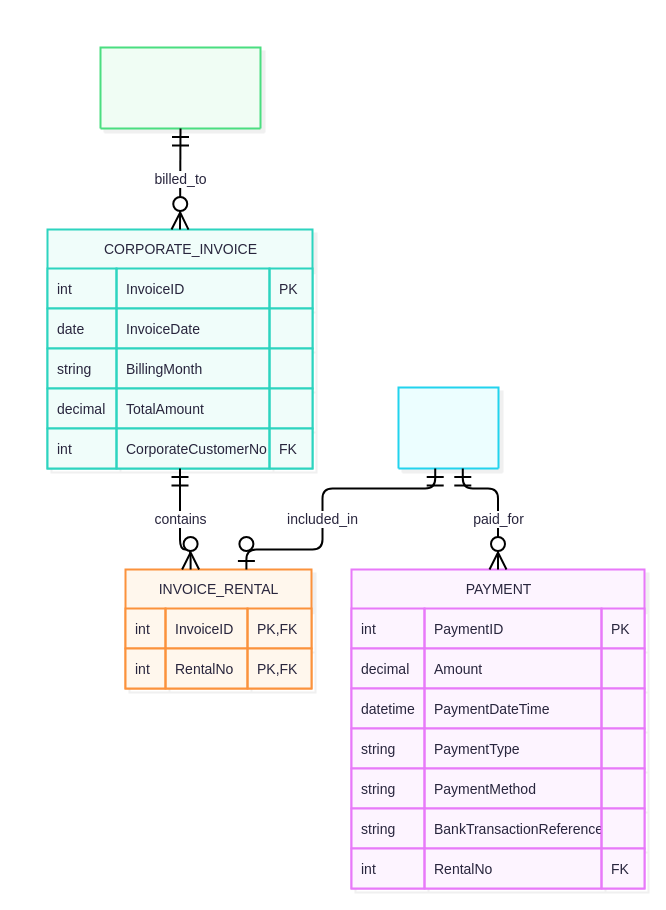
Image size: 666x910. Some labels were removed from this diagram. Each missing label, with the centre of its shape:
"CORPORATE_CUSTOMER" goes at point 182,89.
"RENTAL" goes at point 450,429.
